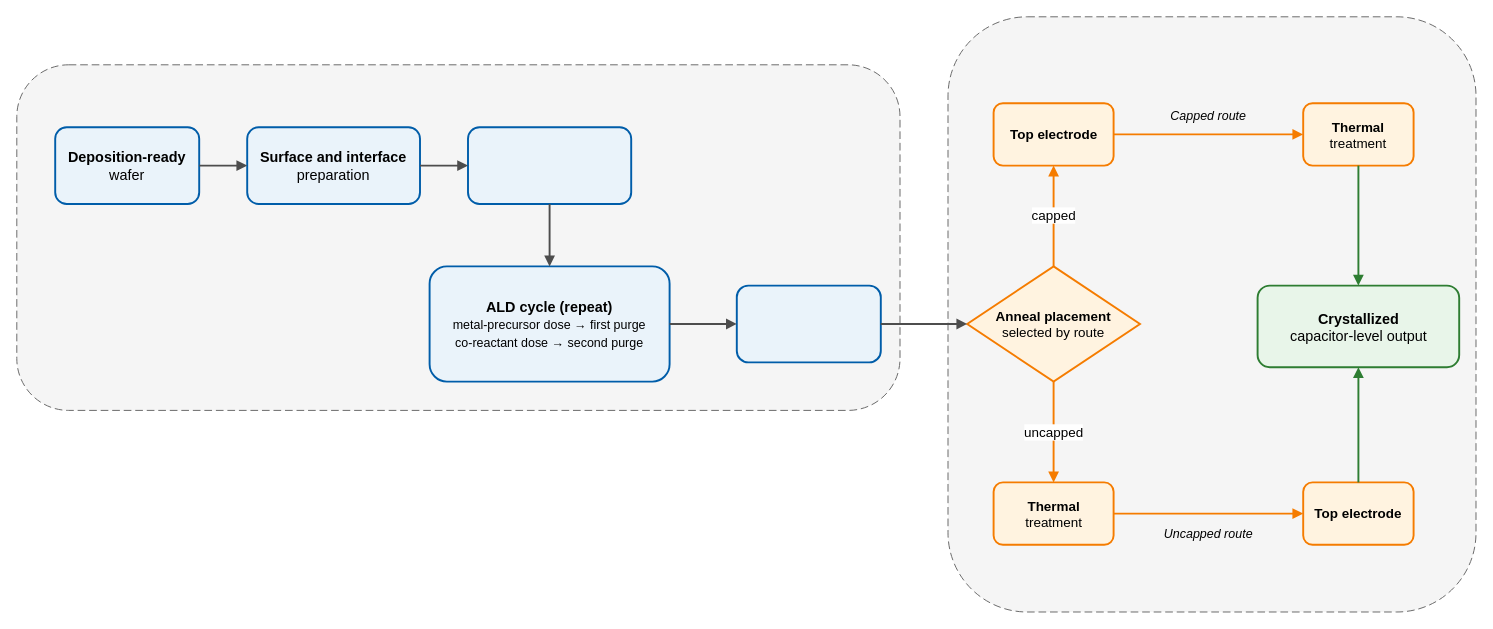
The diagram is 1493 pixels wide and 629 high, and some of its shapes have lost their labels. The box of each missing label's shape, as (x1, y1, x2, y2) in pixels:
Bottom electrode: (467, 126, 632, 204)
Deposited HZO film: (735, 284, 881, 363)
Invariant sequence: (16, 64, 900, 410)
Route-dependent sequence: (947, 16, 1476, 612)
